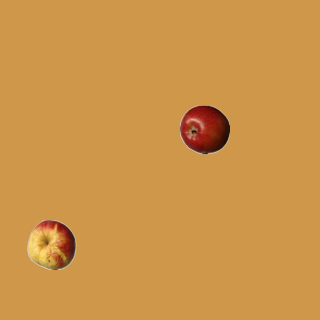Apple Braeburn: (179, 104, 229, 154)
Apple Red Yellow 1: (26, 219, 76, 269)
